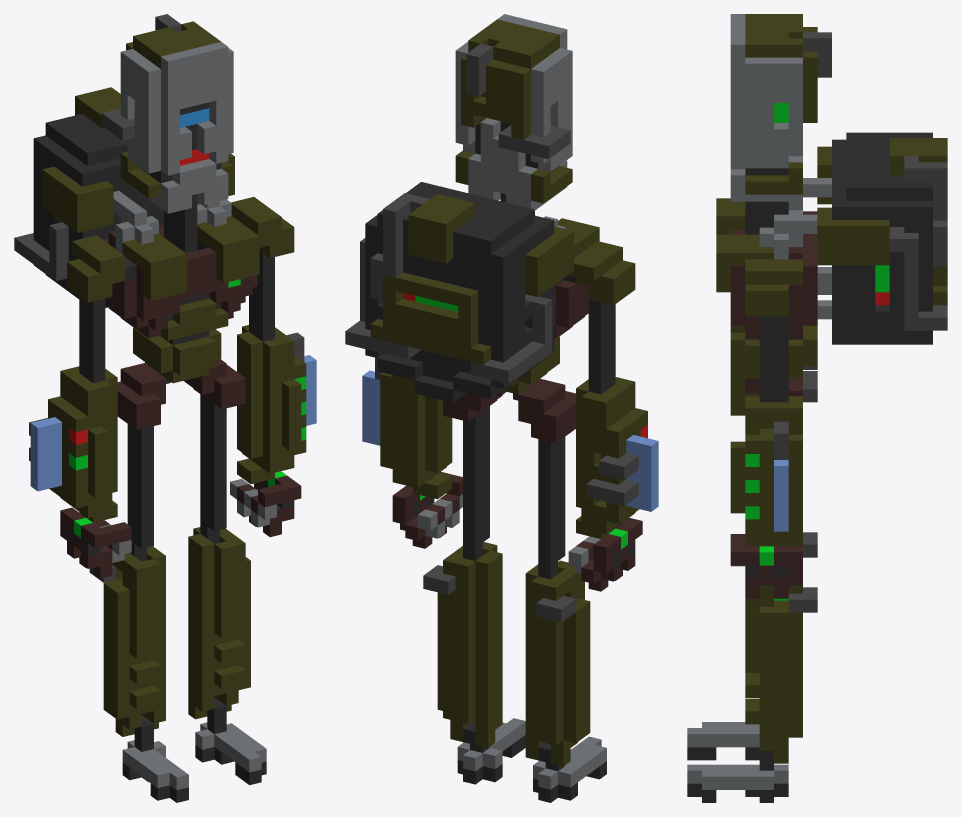
The model's file is Companion-bot.glb.
The picture shows the model from 3 angles, left to right: view 1: azimuth 30°, elevation 25°; view 2: azimuth 150°, elevation 25°; view 3: azimuth 270°, elevation 25°; orthographic projection. The views are drawn at different scales.
Bounding box in the file's own units: 0.0345 × 0.0855 × 0.027.
